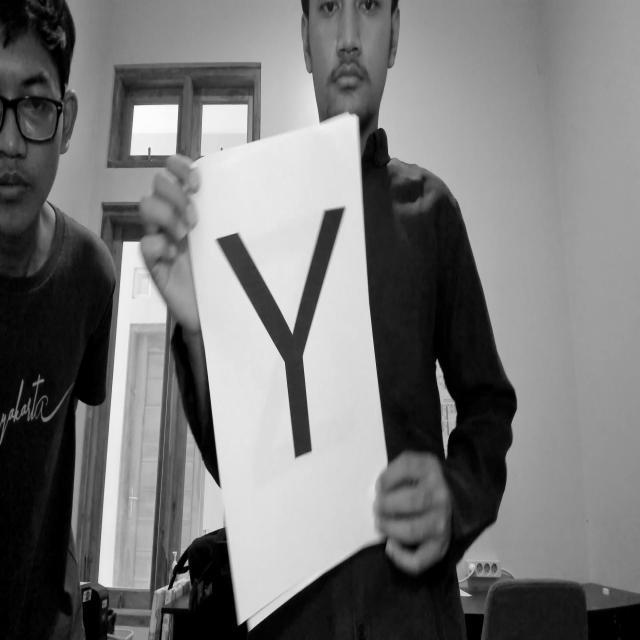y: (210, 193, 352, 477)
